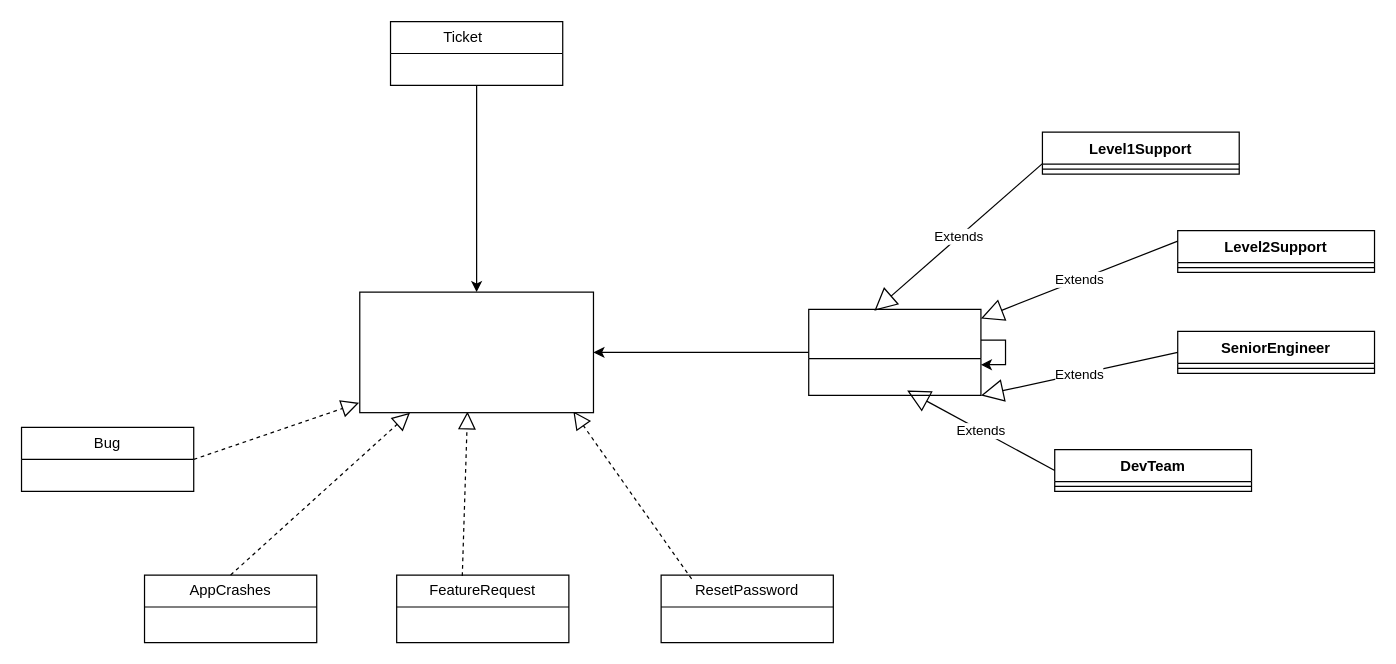
Image size: 1396x664. Some labels were removed from this diagram. Here are the shapes that lost their labels. From the top down, the centre of each, then its label:
At point 476,352: "<<Interface>> TicketType".
At point 894,351: "<<abstract>> Support".
